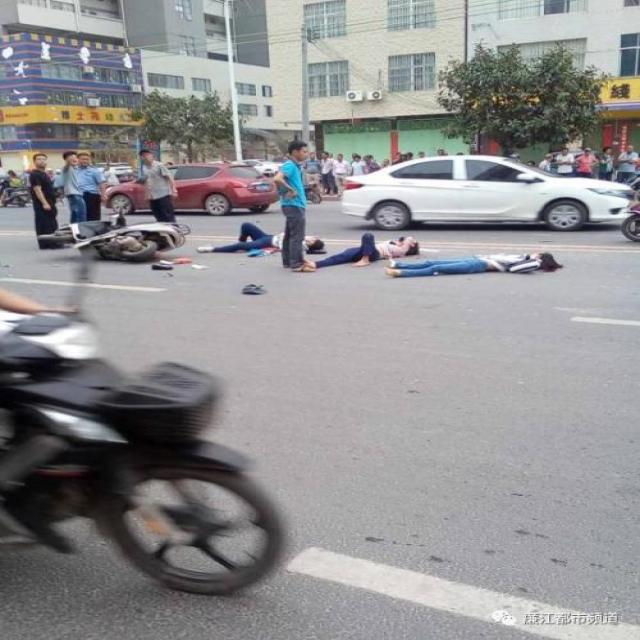10-: (4, 122, 639, 566)
down: (380, 241, 568, 285), (190, 210, 336, 260), (299, 226, 429, 282)
